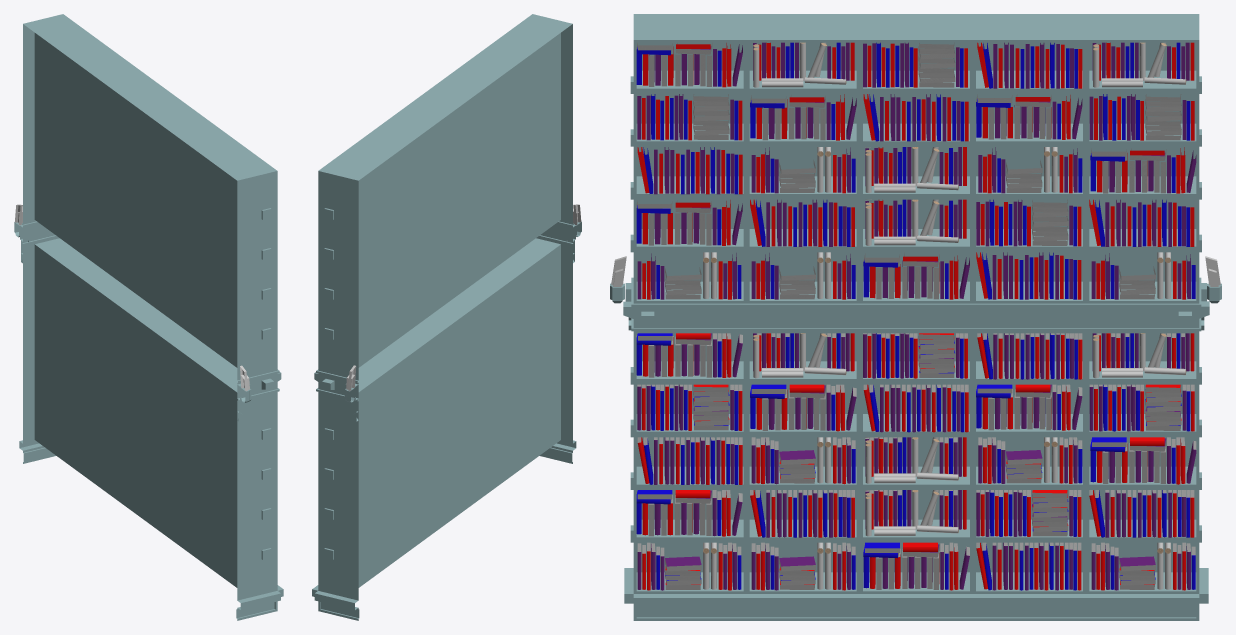
File: BookCase_Half.FBX
3 renders of one model, left to right at view 1: azimuth 30°, elevation 25°; view 2: azimuth 150°, elevation 25°; view 3: azimuth 270°, elevation 25°, orthographic. The views are drawn at different scales.
Parts seen in each view (by area): view 1: BookCase_Half_LOD0; view 2: BookCase_Half_LOD0; view 3: BookCase_Half_LOD0.
Boxes of the visible parts, x1,y1,x2,y2 form: BookCase_Half_LOD0: (14,14,283,620); BookCase_Half_LOD0: (312,14,581,620); BookCase_Half_LOD0: (610,14,1221,620).
Size of what is drawn, in the model's own units: 43.76 by 390 by 373.
